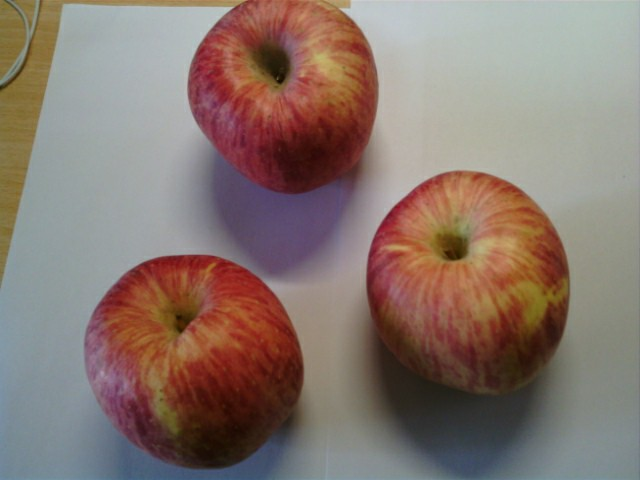normal_apple: (80, 253, 307, 468), (365, 168, 574, 397), (187, 2, 380, 194)
